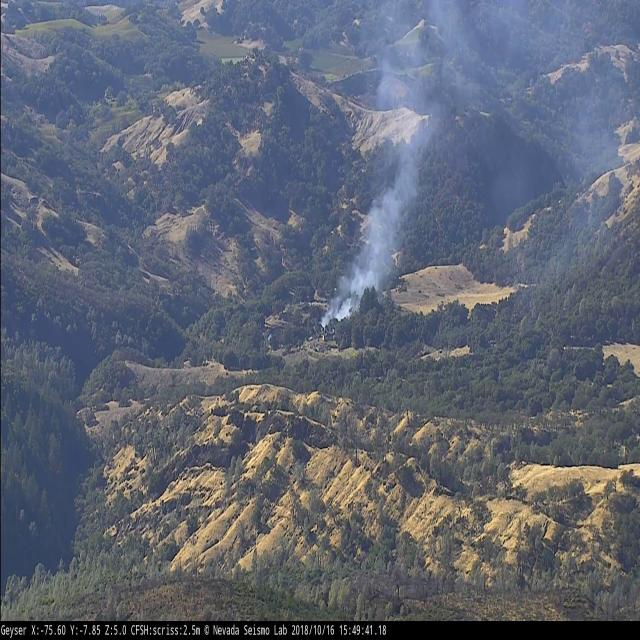smoke: (307, 10, 460, 342)
